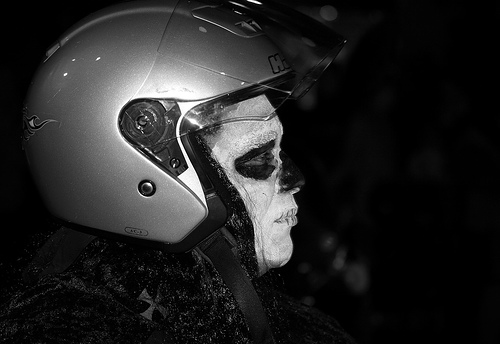helmet: (28, 16, 307, 237)
